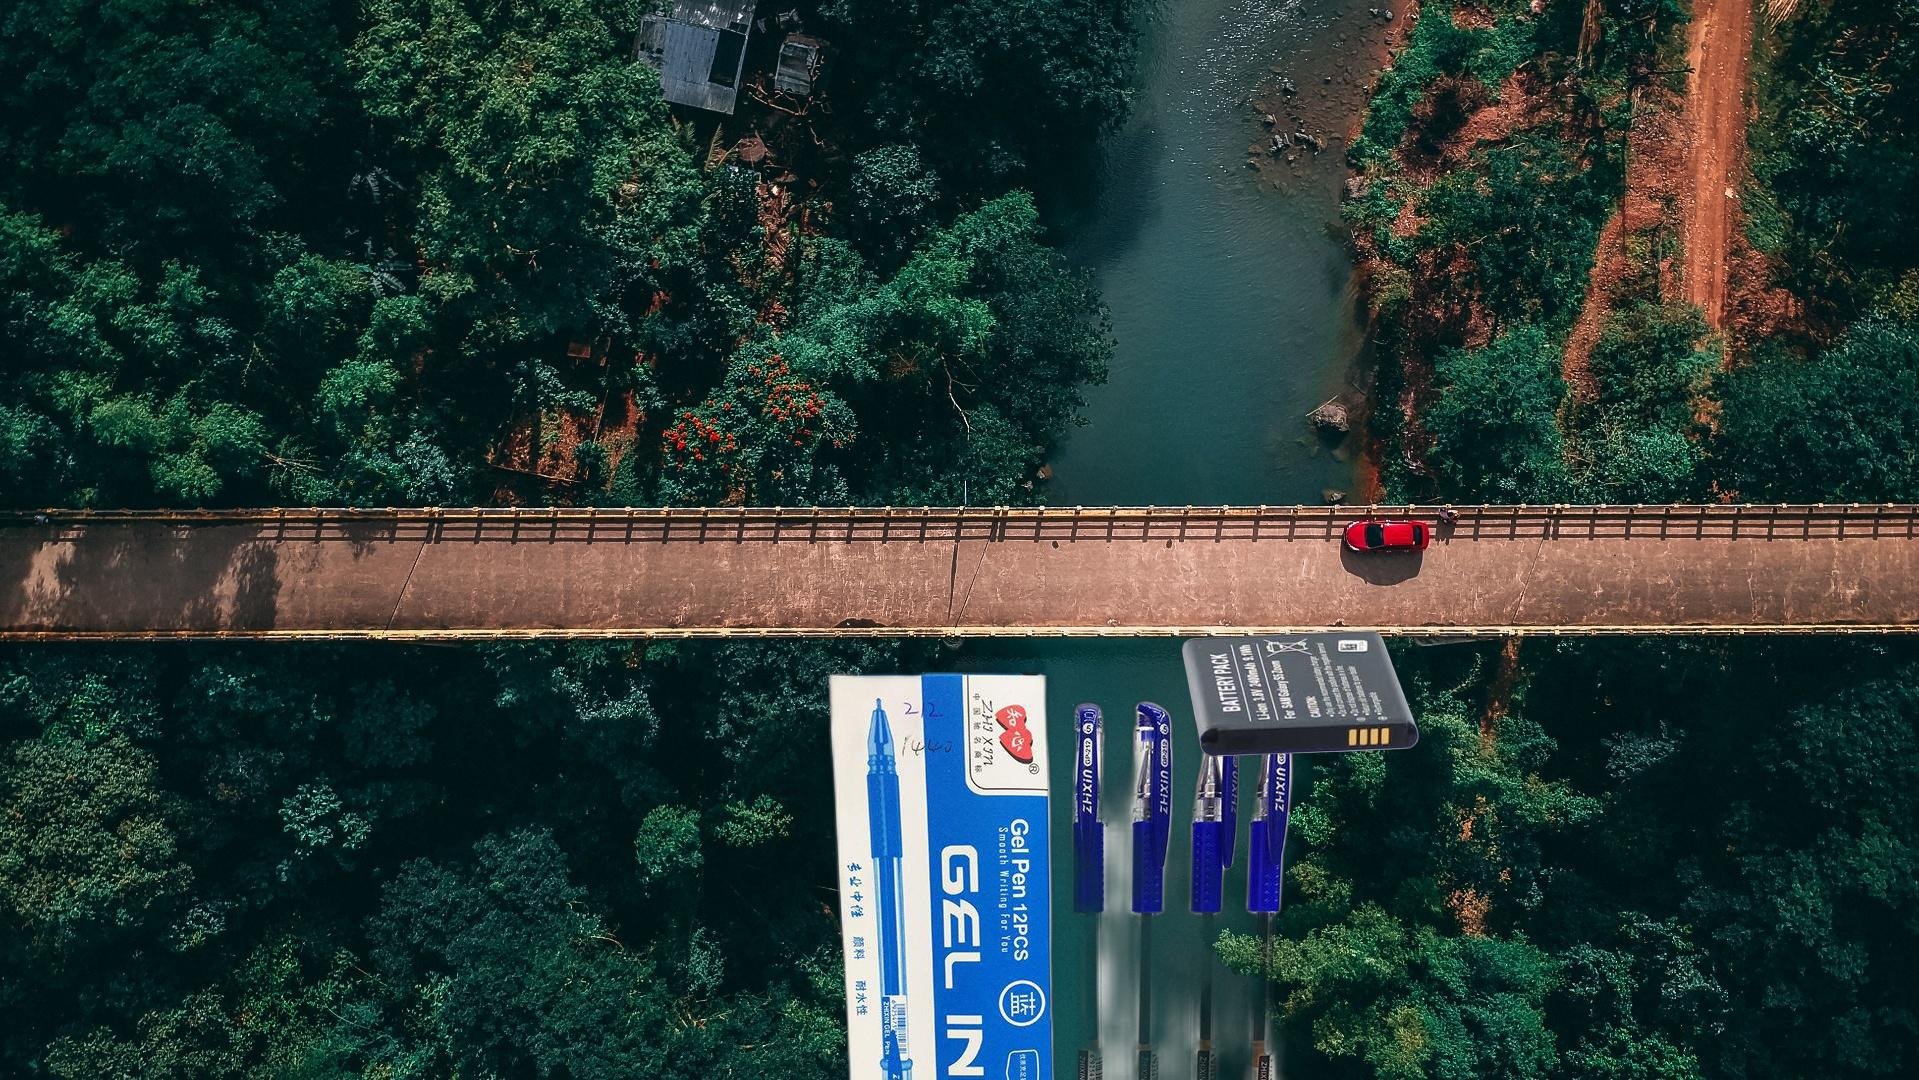battery: (1180, 628, 1422, 760)
biological: (1848, 167, 1919, 429)
penholder: (821, 666, 1314, 1080)
